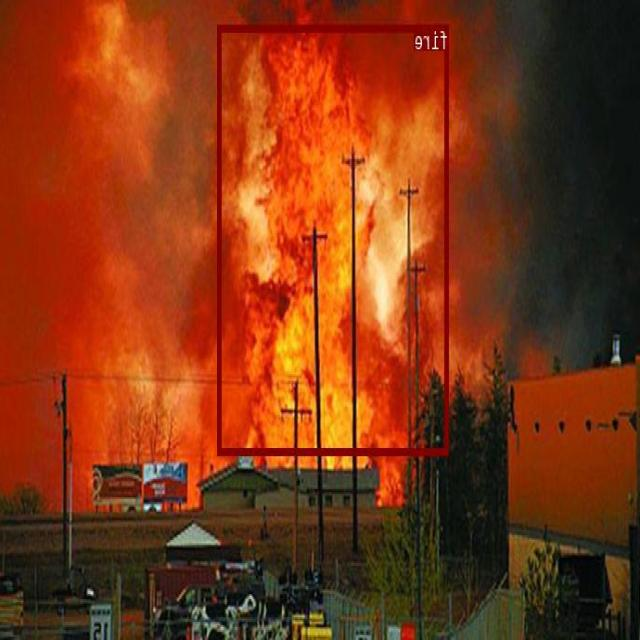fire: (218, 24, 450, 454)
